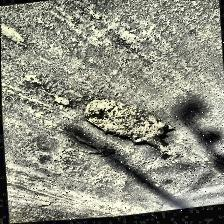pothole: (83, 92, 178, 170), (72, 130, 116, 162)
